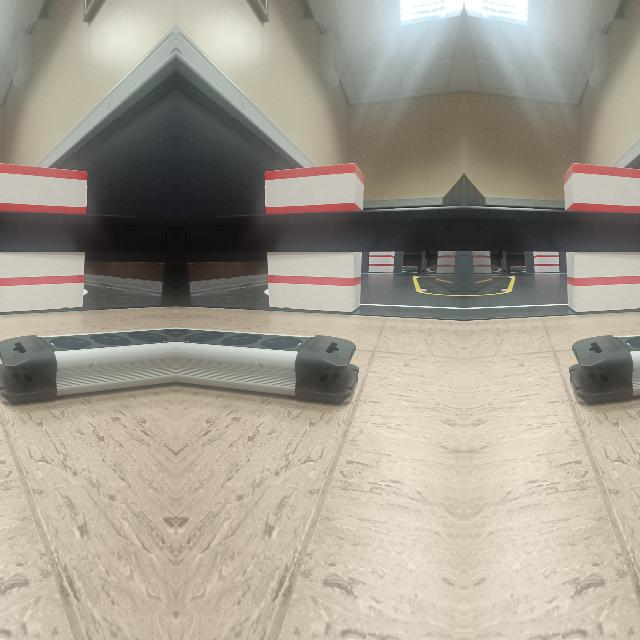obstacle: (177, 329, 359, 403), (0, 329, 173, 403), (568, 329, 640, 403)
